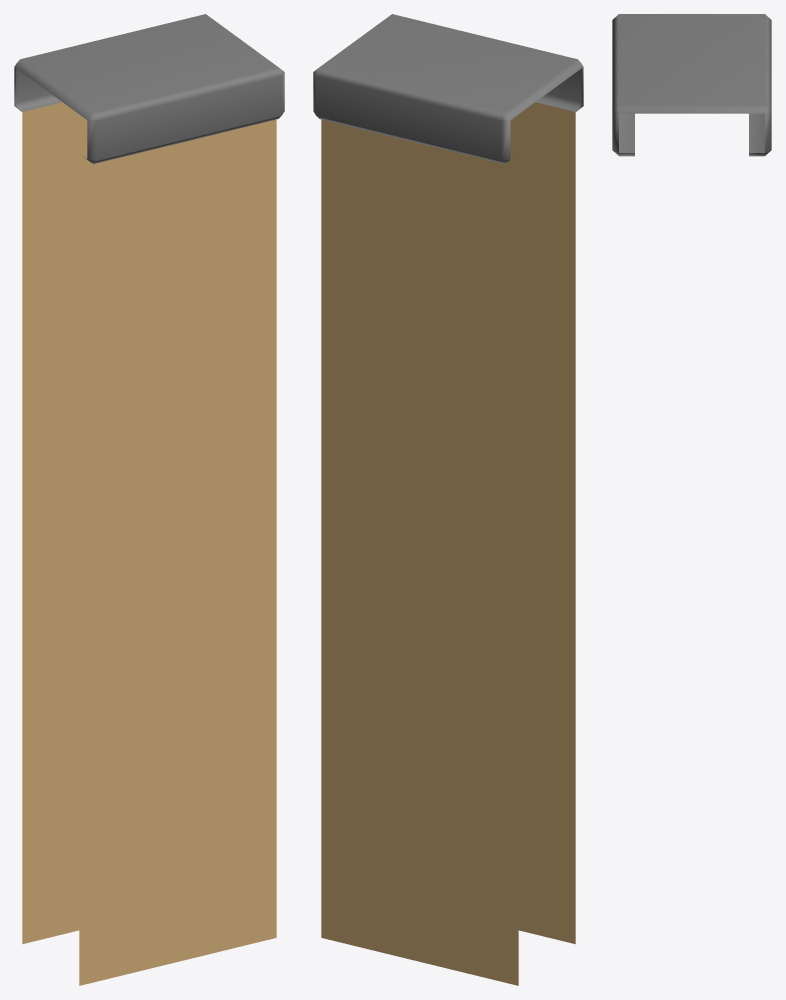
Rendered from SM_WallB_2x8_LOD1.fbx.
3 renders of one model, left to right at view 1: azimuth 30°, elevation 25°; view 2: azimuth 150°, elevation 25°; view 3: azimuth 270°, elevation 25°, orthographic.
Parts seen in each view (by area): view 1: SM_WallB_2x8_LOD1; view 2: SM_WallB_2x8_LOD1; view 3: SM_WallB_2x8_LOD1.
Part boxes in pixels (x1=…): SM_WallB_2x8_LOD1: x1=14, y1=14, x2=284, y2=985; SM_WallB_2x8_LOD1: x1=313, y1=14, x2=583, y2=985; SM_WallB_2x8_LOD1: x1=612, y1=14, x2=771, y2=156.
Bounding box in the file's own units: 2 × 8.5 × 1.4.
